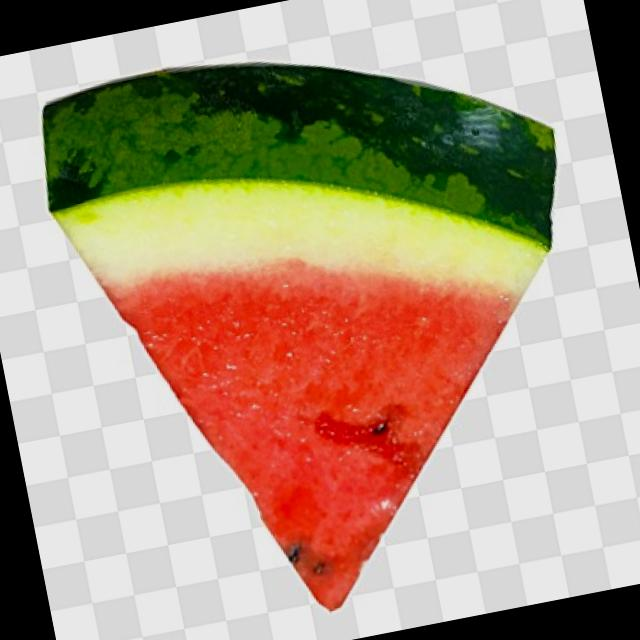dua hau: (42, 66, 555, 610)
